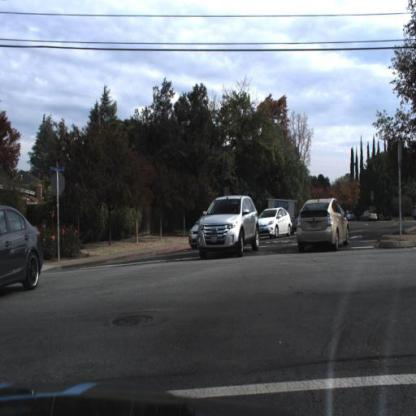car: (1, 204, 45, 301), (198, 194, 260, 257), (295, 199, 348, 261), (258, 207, 294, 239), (357, 208, 382, 228)
